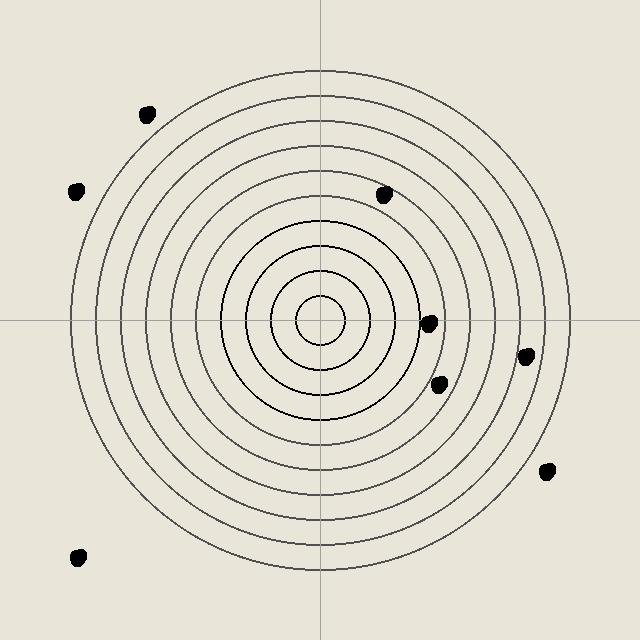random_scatter: (65, 181, 85, 201), (67, 547, 87, 567), (428, 374, 448, 394), (418, 313, 438, 333), (373, 184, 393, 204), (136, 104, 156, 124), (536, 461, 556, 481), (515, 346, 535, 366)
